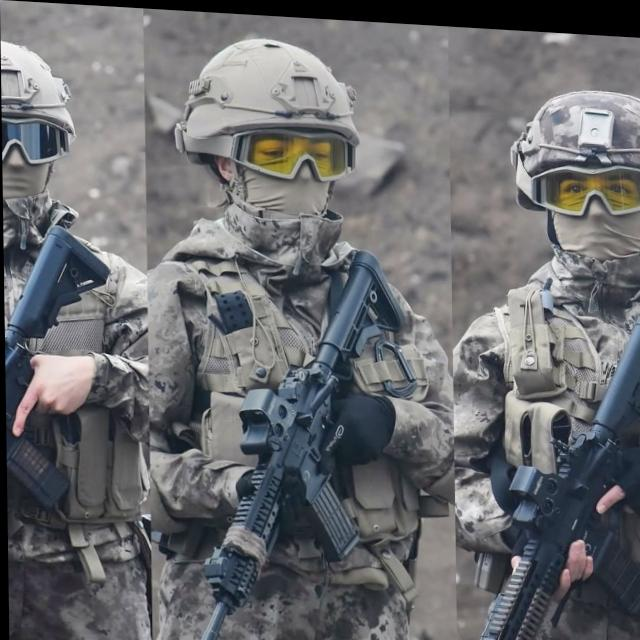poh_personel: (142, 27, 455, 640), (451, 76, 640, 640), (0, 42, 148, 640)
